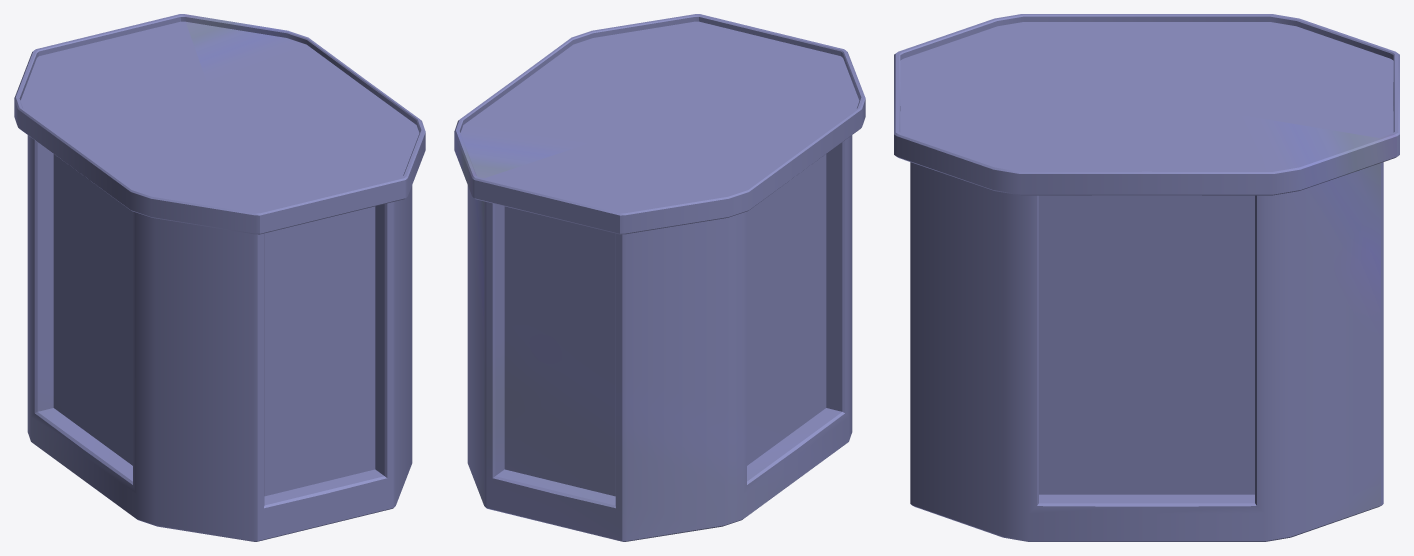
Rendered from G_EscombroCaja.FBX.
The picture shows the model from 3 angles, left to right: view 1: azimuth 30°, elevation 25°; view 2: azimuth 150°, elevation 25°; view 3: azimuth 270°, elevation 25°; orthographic projection. The views are drawn at different scales.
Parts seen in each view (by area): view 1: G_caja; view 2: G_caja; view 3: G_caja.
Boxes of the visible parts, box(x1,y1,x2,y2) form: G_caja: box(14, 14, 425, 541); G_caja: box(454, 14, 865, 541); G_caja: box(894, 14, 1399, 541).
Bounding box in the file's own units: 0.1702 × 0.1871 × 0.2286.
